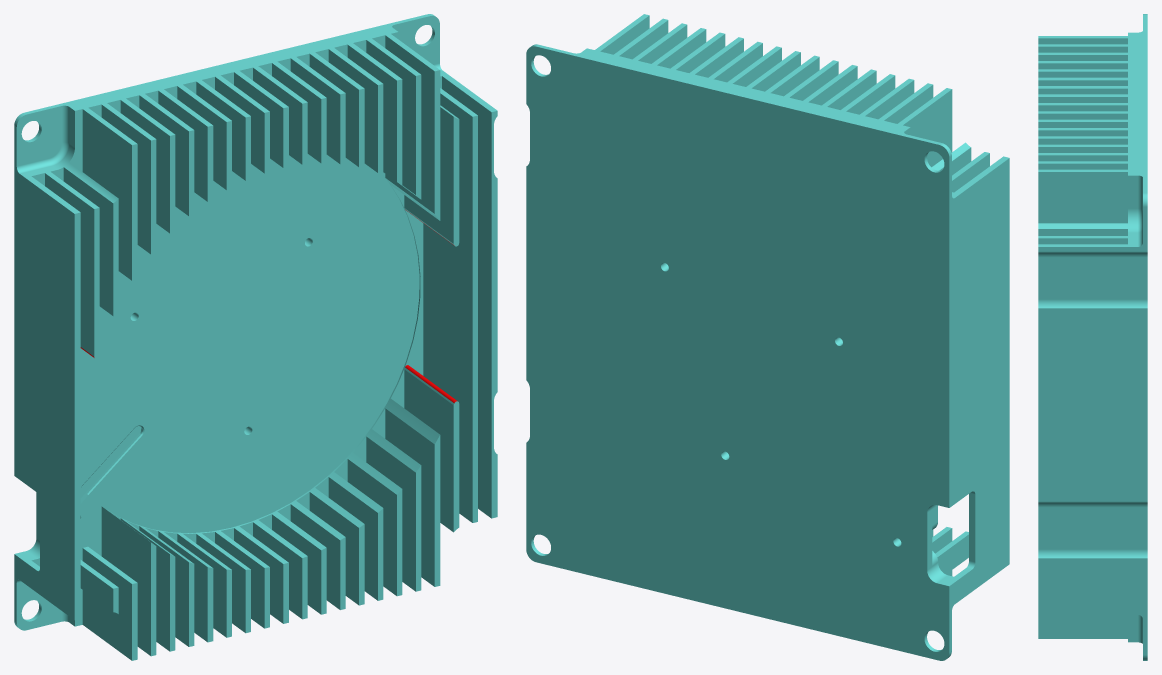
File: HEATSINK_CONCORD.gltf
3 views of the same model, side by side, from view 1: azimuth 30°, elevation 25°; view 2: azimuth 150°, elevation 25°; view 3: azimuth 270°, elevation 25° (orthographic). The views are drawn at different scales.
Parts seen in each view (by area): view 1: mesh14708, mesh14818, mesh14858, mesh14834, mesh14939, mesh14854, mesh14747, mesh14940, mesh14865, mesh14880, mesh14945, mesh14730 (+51 smaller); view 2: mesh14877, mesh14818, mesh14834, mesh14747, mesh14829; view 3: mesh14849, mesh14834, mesh14869, mesh14847, mesh14851, mesh14813, mesh14871, mesh14848, mesh14852, mesh14841, mesh14846, mesh14850 (+23 smaller).
Part boxes in pixels (box(x1,y1,x2,y2)): mesh14708: box(80, 154, 419, 533); mesh14818: box(14, 126, 74, 621); mesh14858: box(423, 93, 472, 522); mesh14834: box(24, 14, 439, 144); mesh14939: box(103, 175, 454, 569); mesh14854: box(442, 76, 491, 518); mesh14747: box(82, 109, 131, 280); mesh14940: box(101, 506, 150, 655); mesh14865: box(404, 369, 453, 532); mesh14880: box(385, 408, 434, 586); mesh14945: box(82, 548, 131, 660); mesh14730: box(74, 212, 80, 619); mesh14877: box(526, 46, 949, 660); mesh14818: box(949, 156, 1009, 652); mesh14834: box(536, 14, 951, 144); mesh14747: box(903, 89, 952, 167); mesh14829: box(937, 534, 968, 574); mesh14849: box(1038, 308, 1147, 501); mesh14834: box(1038, 15, 1147, 192); mesh14869: box(1038, 558, 1147, 654); mesh14847: box(1038, 257, 1147, 299); mesh14851: box(1038, 507, 1147, 549); mesh14813: box(1038, 172, 1127, 223); mesh14871: box(1038, 615, 1127, 638); mesh14848: box(1038, 299, 1147, 308); mesh14852: box(1038, 549, 1147, 558); mesh14841: box(1038, 208, 1137, 232); mesh14846: box(1038, 251, 1147, 257); mesh14850: box(1038, 501, 1147, 507).
Size of the model in its own units: 0.085 by 0.099 by 0.021.
